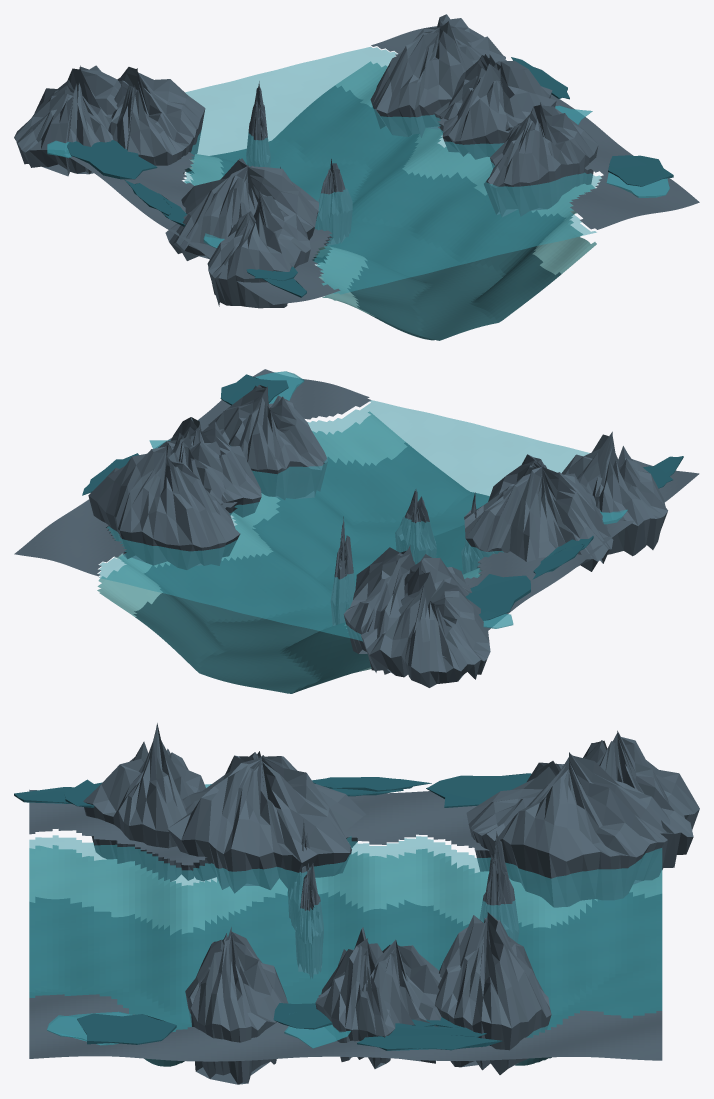
The model's file is water_tile_09.glb.
3 renders of one model, top to bottom at view 1: azimuth 30°, elevation 25°; view 2: azimuth 150°, elevation 25°; view 3: azimuth 270°, elevation 25°, orthographic. The views are drawn at different scales.
Visible parts, largest first — view 1: glacial water surface 09, submerged mineral riverbed.009, single continuous dark slate shoreline.009, visible shallow mineral shelves.009, angular fractured shoreline ledge.092, angular fractured shoreline ledge.094, angular fractured shoreline ledge.099, angular fractured shoreline ledge.096, angular fractured shoreline ledge.097, angular fractured shoreline ledge.098, angular fractured shoreline ledge.095, underwater worn boulder.031 (+7 smaller); view 2: glacial water surface 09, submerged mineral riverbed.009, angular fractured shoreline ledge.094, single continuous dark slate shoreline.009, angular fractured shoreline ledge.096, angular fractured shoreline ledge.099, angular fractured shoreline ledge.092, visible shallow mineral shelves.009, angular fractured shoreline ledge.097, angular fractured shoreline ledge.098, angular fractured shoreline ledge.095, erosion water finger above land.122 (+7 smaller); view 3: glacial water surface 09, submerged mineral riverbed.009, single continuous dark slate shoreline.009, visible shallow mineral shelves.009, angular fractured shoreline ledge.098, angular fractured shoreline ledge.096, angular fractured shoreline ledge.094, angular fractured shoreline ledge.097, angular fractured shoreline ledge.092, angular fractured shoreline ledge.095, angular fractured shoreline ledge.099, angular fractured shoreline ledge.093 (+13 smaller).
Boxes of the visible parts, x1,y1,x2,y2 form: glacial water surface 09: (183, 47, 601, 294); submerged mineral riverbed.009: (185, 85, 565, 340); single continuous dark slate shoreline.009: (65, 26, 699, 304); visible shallow mineral shelves.009: (184, 61, 596, 316); angular fractured shoreline ledge.092: (484, 102, 598, 216); angular fractured shoreline ledge.094: (370, 14, 505, 137); angular fractured shoreline ledge.099: (14, 65, 120, 176); angular fractured shoreline ledge.096: (165, 158, 318, 260); angular fractured shoreline ledge.097: (207, 190, 310, 308); angular fractured shoreline ledge.098: (108, 67, 205, 173); angular fractured shoreline ledge.095: (442, 60, 556, 159); underwater worn boulder.031: (314, 159, 352, 245); glacial water surface 09: (98, 400, 589, 641); submerged mineral riverbed.009: (133, 442, 489, 693); angular fractured shoreline ledge.094: (88, 442, 240, 569); single continuous dark slate shoreline.009: (14, 369, 699, 657); angular fractured shoreline ledge.096: (464, 454, 613, 571); angular fractured shoreline ledge.099: (360, 567, 490, 687); angular fractured shoreline ledge.092: (208, 385, 327, 499); visible shallow mineral shelves.009: (97, 411, 482, 671); angular fractured shoreline ledge.097: (561, 431, 667, 556); angular fractured shoreline ledge.098: (343, 545, 471, 674); angular fractured shoreline ledge.095: (158, 417, 261, 517); erosion water finger above land.122: (465, 574, 530, 620); glacial water surface 09: (29, 835, 662, 1037); submerged mineral riverbed.009: (29, 891, 662, 1066); single continuous dark slate shoreline.009: (29, 789, 662, 1061); visible shallow mineral shelves.009: (29, 845, 662, 935); angular fractured shoreline ledge.098: (466, 752, 670, 907); angular fractured shoreline ledge.096: (168, 751, 366, 893); angular fractured shoreline ledge.094: (435, 912, 551, 1074); angular fractured shoreline ledge.097: (83, 723, 205, 881); angular fractured shoreline ledge.092: (185, 927, 288, 1084); angular fractured shoreline ledge.095: (315, 927, 395, 1068); angular fractured shoreline ledge.099: (583, 730, 699, 867); angular fractured shoreline ledge.093: (318, 939, 441, 1063).
Size of the model in its own units: 1.07 by 0.3423 by 1.08.
